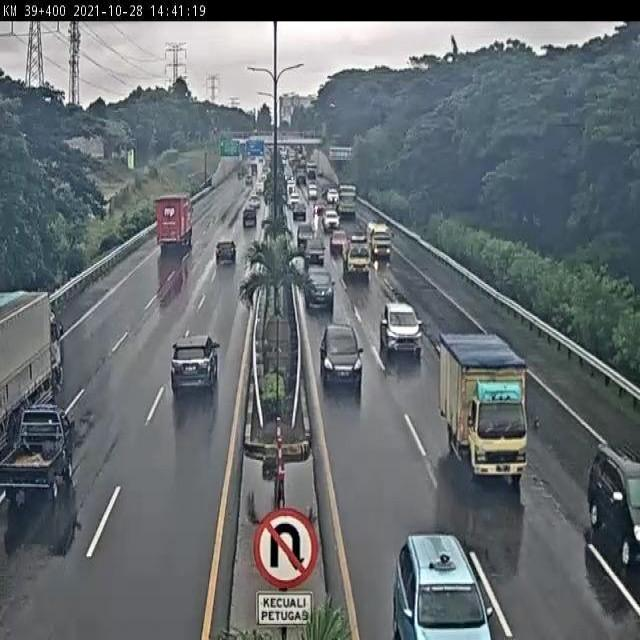car: (0, 405, 76, 500), (168, 334, 219, 398), (318, 322, 363, 390), (381, 302, 424, 362), (304, 264, 334, 311), (305, 236, 326, 264), (213, 239, 235, 265)
mid truck: (0, 284, 66, 460)
truck-m-: (439, 329, 531, 480), (340, 234, 371, 278)
